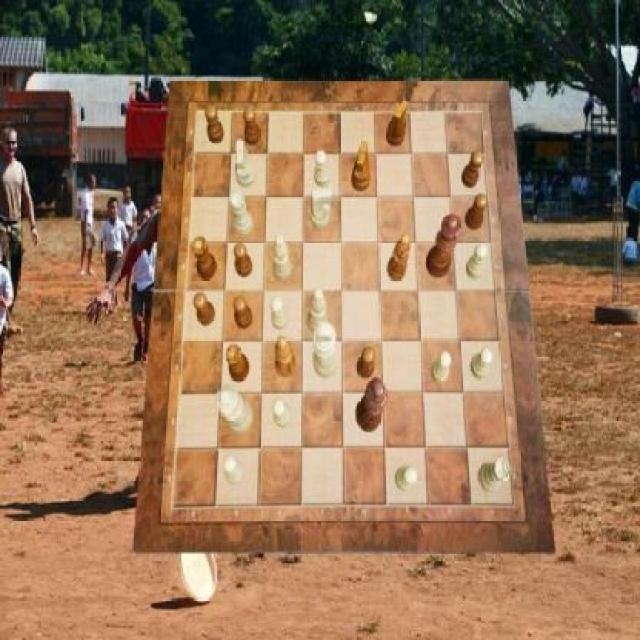bishop: (388, 234, 410, 281), (275, 335, 298, 378)
black-bishop: (357, 377, 389, 431)
black-king: (386, 100, 409, 148), (352, 142, 372, 192)
black-knight: (464, 194, 488, 230), (461, 151, 484, 188), (204, 106, 223, 145), (193, 294, 214, 328), (244, 108, 262, 146), (234, 297, 254, 331), (234, 243, 253, 278), (357, 348, 375, 380)
black-pawn: (426, 212, 462, 278)
black-queen: (192, 236, 217, 280), (226, 343, 250, 382)
black-rook: (272, 234, 292, 281), (308, 289, 328, 335)
white-bishop: (314, 322, 338, 379)
white-king: (237, 140, 257, 189), (310, 188, 332, 229)
white-knight: (466, 244, 489, 280), (471, 348, 494, 380), (432, 352, 452, 385), (223, 456, 244, 486), (270, 297, 288, 331), (315, 149, 331, 187), (396, 466, 418, 492), (272, 400, 292, 428)
white-pawn: (217, 386, 255, 436)
white-queen: (478, 459, 512, 493), (231, 191, 254, 236)
